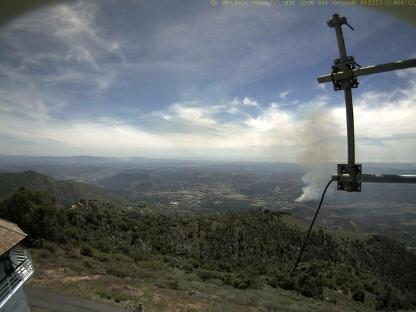smoke: (292, 105, 344, 203)
